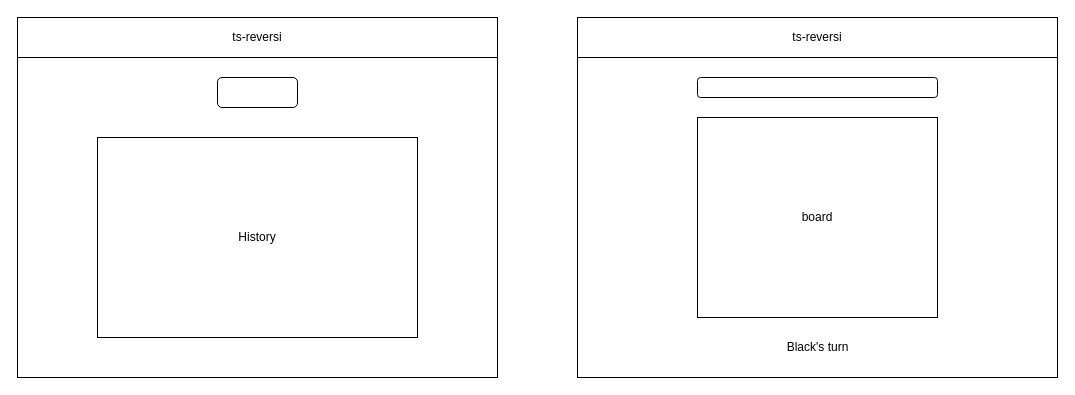
This 1075x395 diagram has some shape labels left out. The shapes that lost their labels are listed below. From the top down, each one's centre as x and y in pixels, then its label:
At point 257,92: "Game start".
At point 817,87: "skip your turn".
